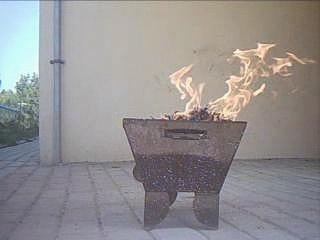fire: (166, 38, 311, 127)
